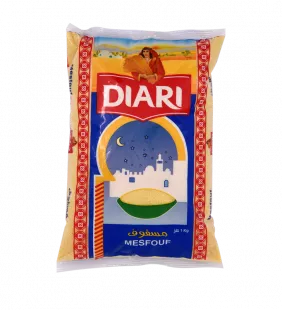DIARI: (51, 13, 236, 284)
